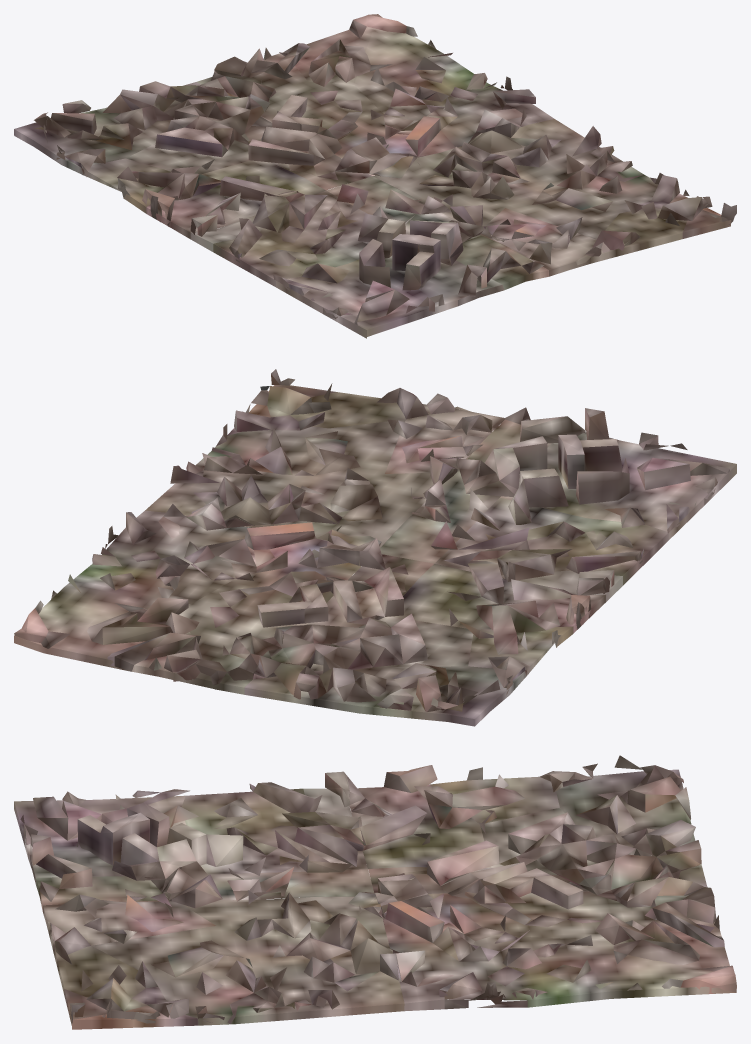
The picture shows the model from 3 angles, top to bottom: view 1: azimuth 30°, elevation 25°; view 2: azimuth 150°, elevation 25°; view 3: azimuth 270°, elevation 25°; orthographic projection. The views are drawn at different scales.
Visible parts, largest first — view 1: Mesh_0; view 2: Mesh_0; view 3: Mesh_0.
Part boxes in pixels (x1=…): Mesh_0: x1=14, y1=14, x2=736, y2=338; Mesh_0: x1=14, y1=369, x2=736, y2=726; Mesh_0: x1=14, y1=755, x2=736, y2=1029.
Size of the model in its own units: 540 by 61.9 by 659.
2 materials, 2 textured.
